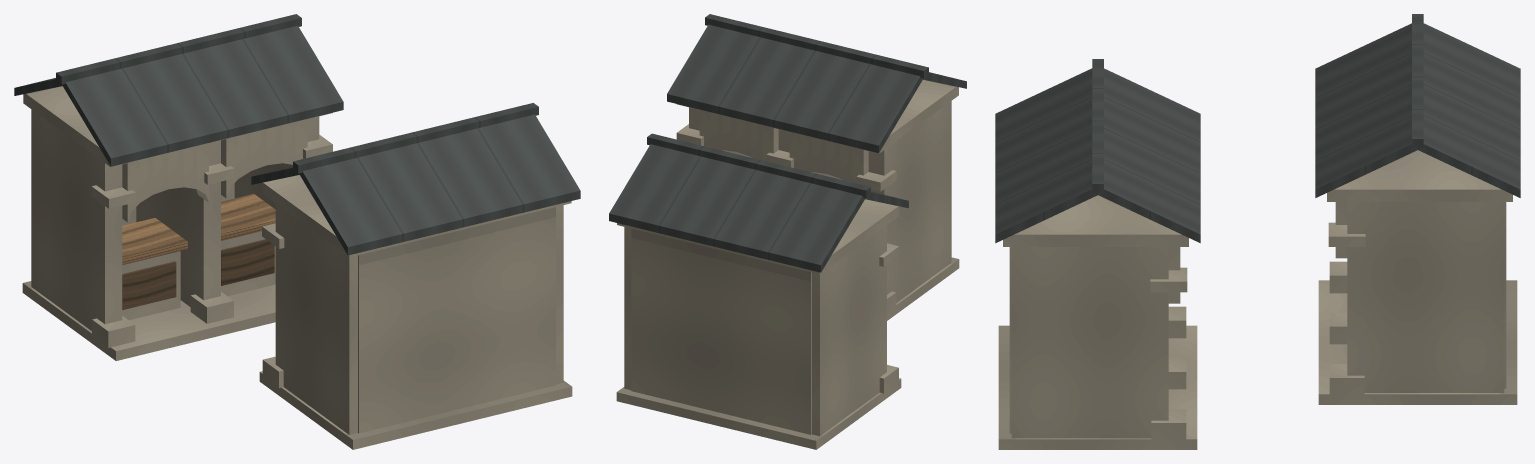
3 renders of one model, left to right at view 1: azimuth 30°, elevation 25°; view 2: azimuth 150°, elevation 25°; view 3: azimuth 270°, elevation 25°, orthographic. The views are drawn at different scales.
Parts seen in each view (by area): view 1: la-paz; view 2: la-paz; view 3: la-paz.
Boxes of the visible parts, <box> form: la-paz: <box>14,14,580,449</box>; la-paz: <box>609,14,966,449</box>; la-paz: <box>995,14,1520,449</box>.
Size of the model in its own units: 3.36 by 2.5 by 4.39.
1 material, 1 textured.
